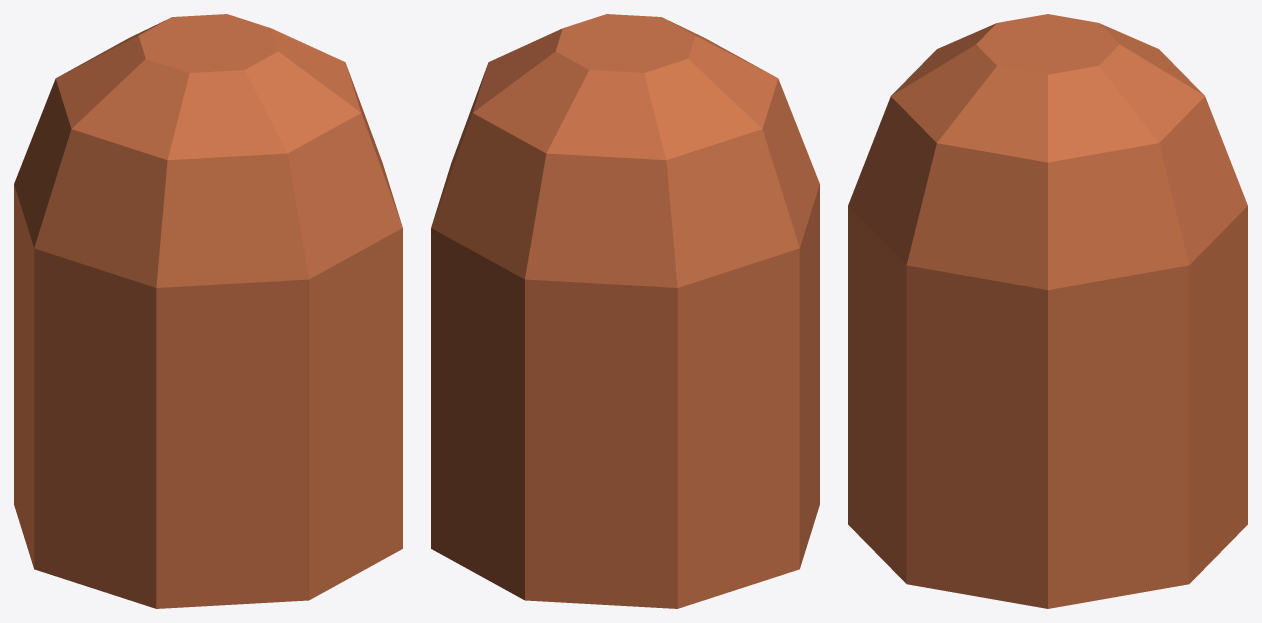
File: BLT-357.fbx
The picture shows the model from 3 angles, left to right: view 1: azimuth 30°, elevation 25°; view 2: azimuth 150°, elevation 25°; view 3: azimuth 270°, elevation 25°; orthographic projection.
Visible parts, largest first — view 1: Cylinder.004; view 2: Cylinder.004; view 3: Cylinder.004.
Part boxes in pixels (x1,y1,x2,y2): Cylinder.004: [14, 14, 402, 608]; Cylinder.004: [431, 14, 819, 608]; Cylinder.004: [848, 14, 1247, 608].
Bounding box in the file's own units: 21.55 × 28.54 × 21.55.
